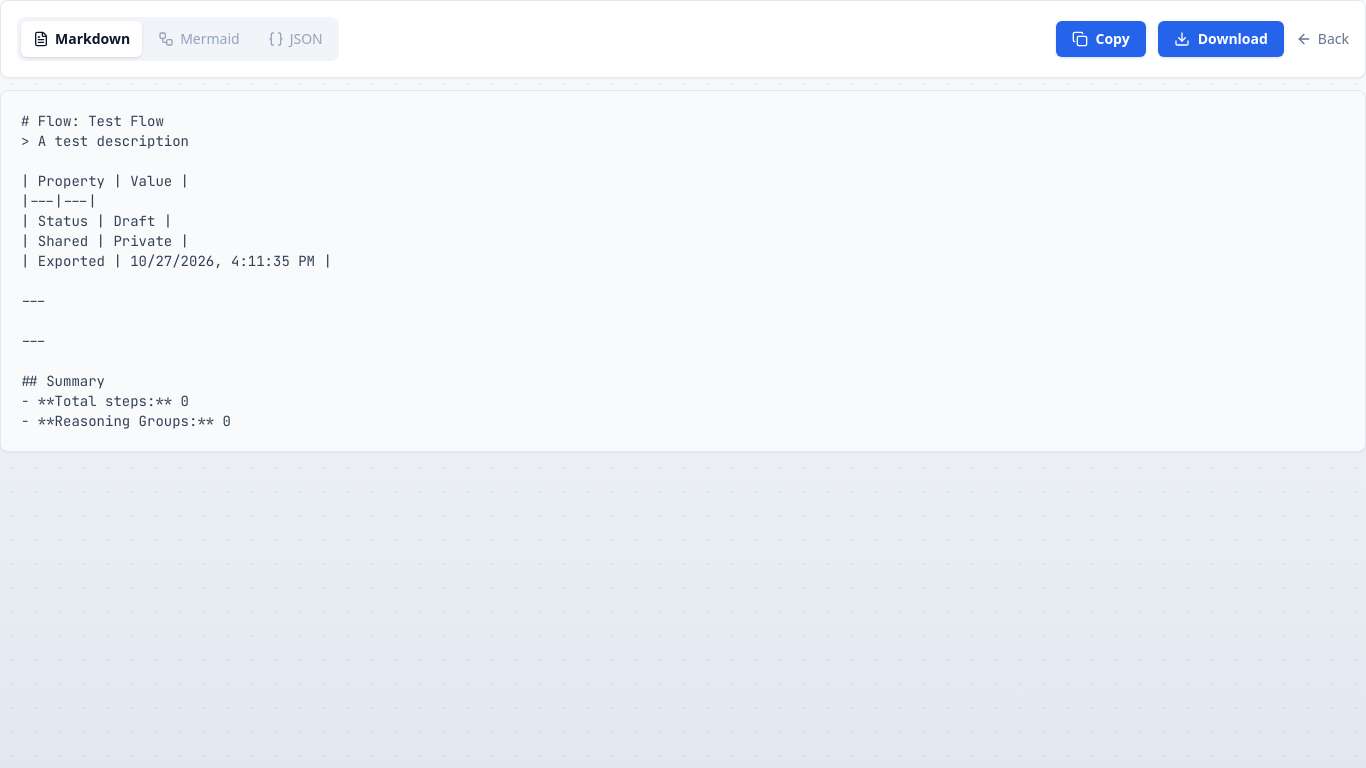
Test: ExportPhase › copy button shows Copied! feedback after successful copy
Click the button "Copy".
click(1101, 39)  # box [1056,21,1146,57]
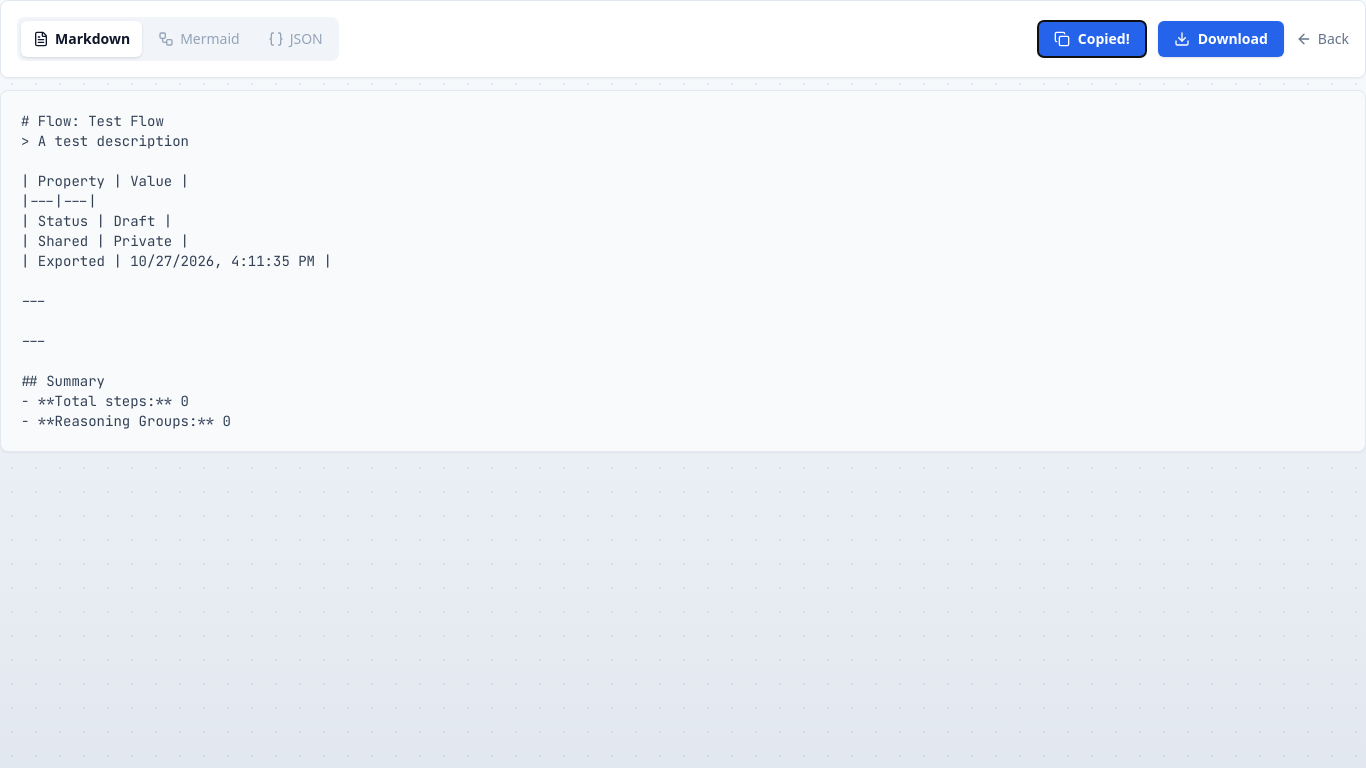
expect the button "Copied!" is shown: met, box [1038,21,1146,57]
